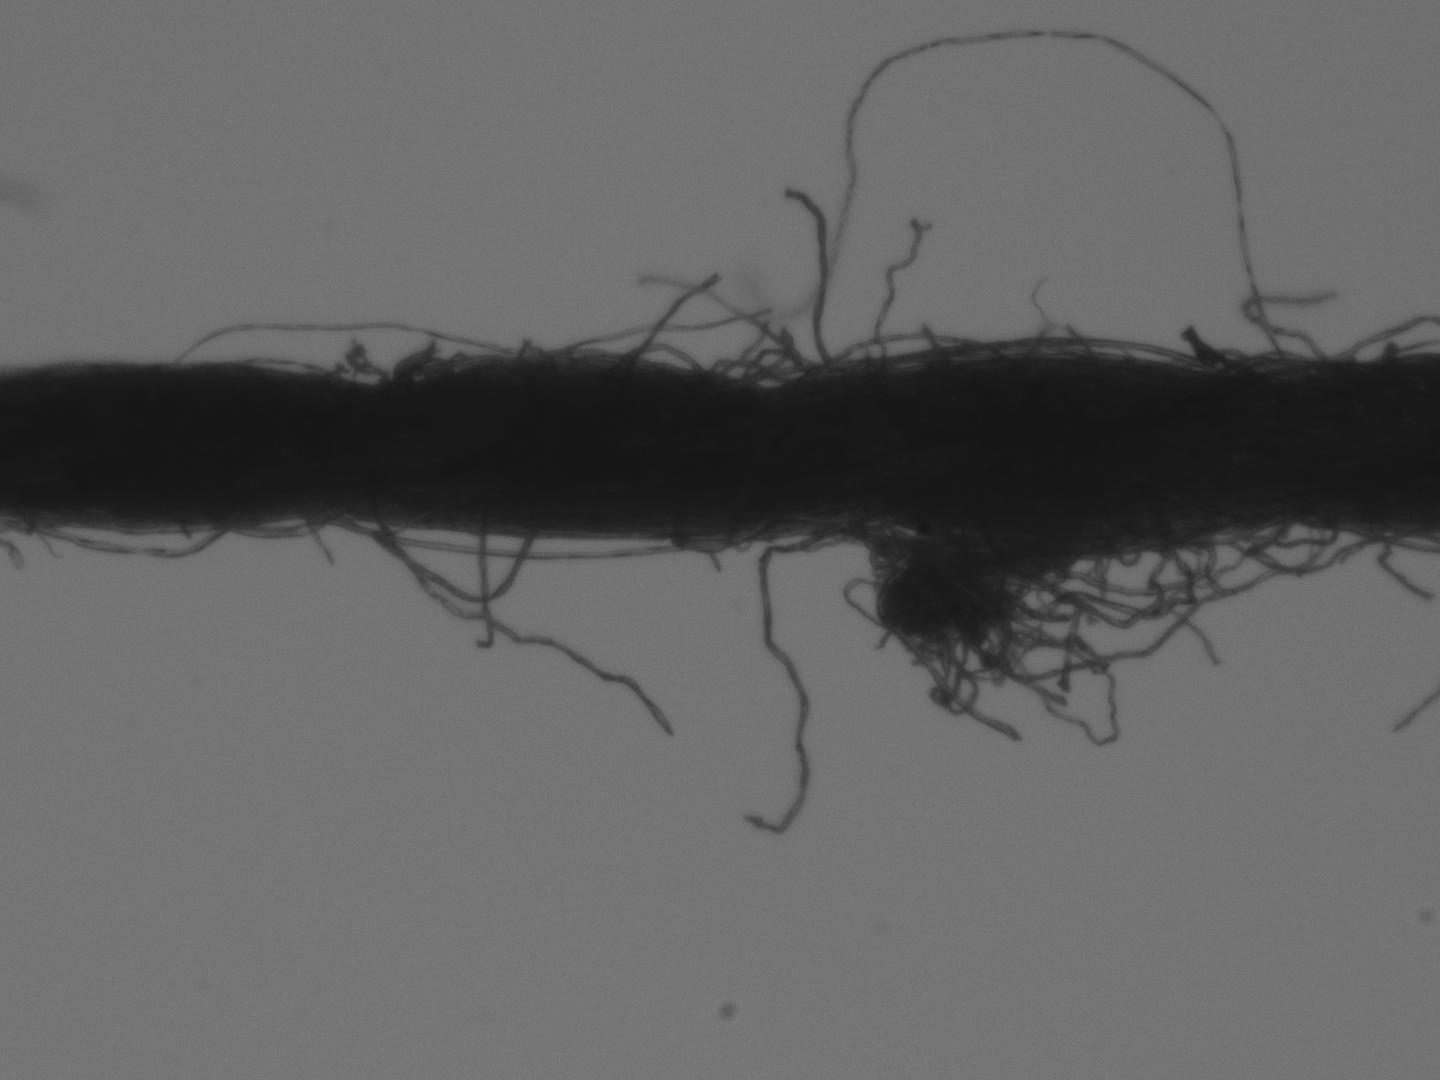loop_fiber: (845, 516, 1377, 714), (169, 319, 524, 383), (1040, 522, 1281, 594), (369, 509, 533, 601), (20, 520, 229, 563), (908, 338, 1204, 365), (830, 334, 1002, 371), (388, 347, 501, 387), (212, 508, 338, 541), (743, 347, 837, 385), (661, 529, 759, 557), (619, 340, 696, 364)
protruding_fiber: (743, 525, 814, 836), (785, 180, 838, 369), (627, 275, 721, 371), (476, 526, 492, 655)
